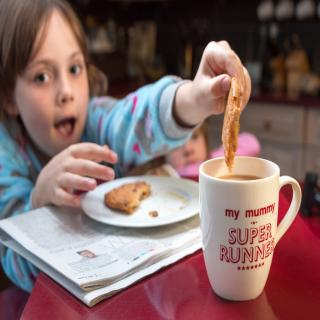Cookie: (220, 75, 242, 173), (102, 179, 152, 214)
